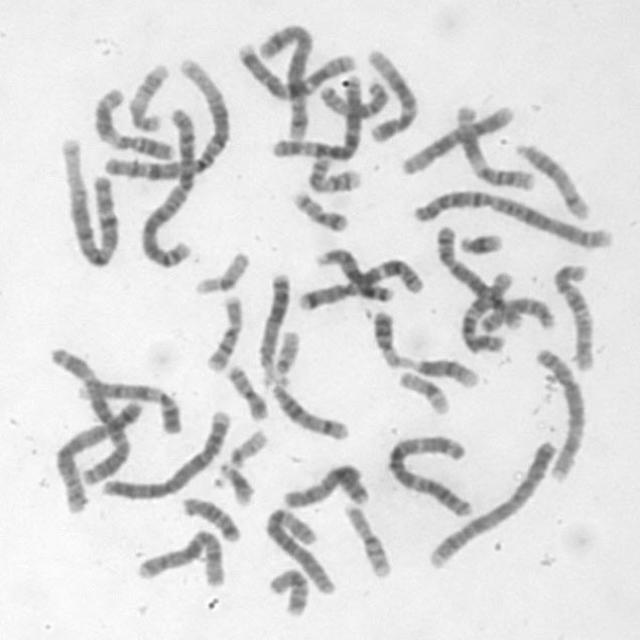A1: (98, 53, 233, 182), (55, 132, 122, 270)
A2: (410, 185, 617, 251), (137, 100, 201, 269)
A3: (43, 342, 133, 483), (383, 429, 477, 518)
B4: (428, 437, 560, 570), (98, 405, 234, 502)
B5: (52, 393, 145, 514), (256, 15, 317, 141)
C10: (548, 257, 599, 372), (456, 265, 516, 357)
C11: (450, 100, 537, 192), (90, 82, 180, 162)
C12: (397, 100, 518, 176), (364, 44, 422, 144)
C6: (266, 70, 369, 161), (258, 502, 340, 596)
C7: (294, 252, 426, 311), (234, 39, 357, 100)
C8: (430, 220, 527, 332), (529, 342, 589, 483)
C9: (367, 305, 481, 390), (72, 376, 182, 435)
D13: (313, 242, 397, 304), (255, 268, 293, 387)
D14: (510, 137, 594, 222), (264, 376, 353, 442)
D15: (475, 292, 558, 334), (317, 76, 391, 120)
E16: (339, 499, 394, 580), (200, 289, 245, 373)
E17: (123, 58, 171, 134), (303, 153, 365, 195)
E18: (177, 491, 244, 544), (264, 563, 311, 618)
F19: (189, 245, 253, 296), (394, 366, 452, 416)
F20: (287, 185, 351, 233), (222, 359, 271, 421)
G21: (214, 457, 257, 507), (453, 226, 506, 256)
G22: (223, 424, 269, 469), (269, 325, 302, 379)
X: (133, 524, 229, 590), (278, 458, 373, 510)
